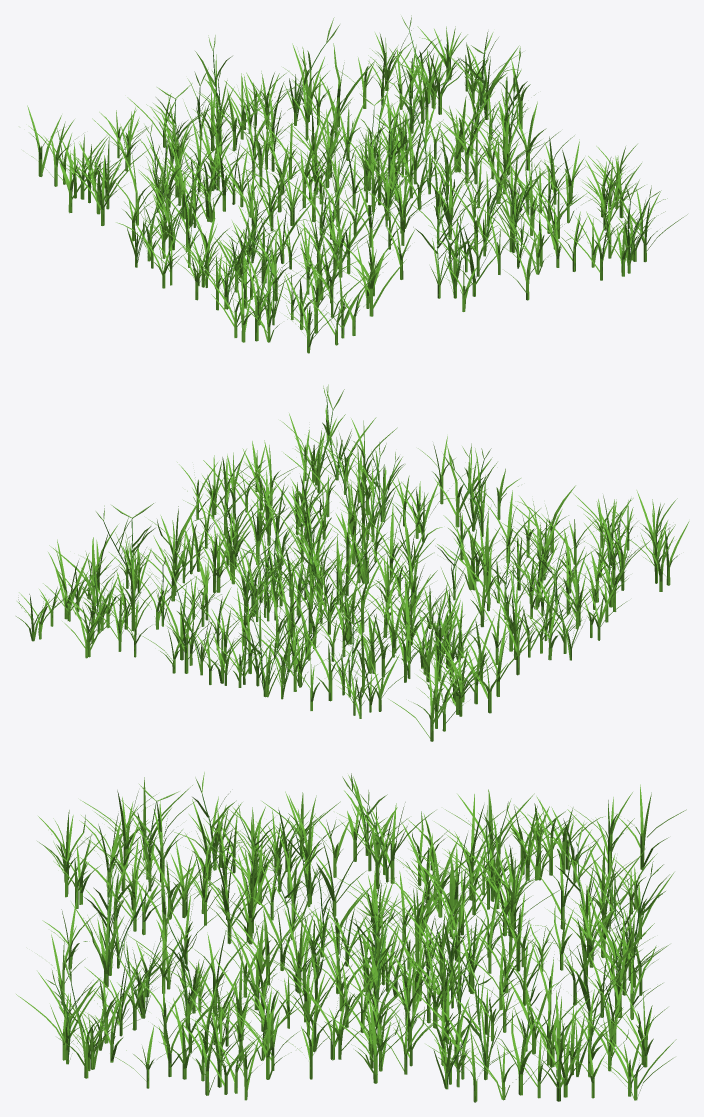
The model's file is BlenderGuru_GrassEssentials_Bahiagrass.obj.
3 views of the same model, one above another, from view 1: azimuth 30°, elevation 25°; view 2: azimuth 150°, elevation 25°; view 3: azimuth 270°, elevation 25° (orthographic). The views are drawn at different scales.
Parts seen in each view (by area): view 1: Grass_Bahiagrass_Long.018_Bahia01.005, Grass_Bahiagrass_Long.019_Bahia01.004, Grass_Bahiagrass_Long.006_Bahia01.018, Grass_Bahiagrass_Long.030_Bahia01.005, Grass_Bahiagrass_Long.036_Bahia01.018, Grass_Bahiagrass_Long.025_Bahia01.015, Grass_Bahiagrass_Long.021_Bahia01.002, Grass_Bahiagrass.243_Bahia.028, Grass_Bahiagrass_Long.031_Bahia01.004, Grass_Bahiagrass.245_Bahia.028, Grass_Bahiagrass.053_Bahia.032; view 2: Grass_Bahiagrass_Long.019_Bahia01.004, Grass_Bahiagrass_Long.018_Bahia01.005, Grass_Bahiagrass_Long.036_Bahia01.018, Grass_Bahiagrass.245_Bahia.028, Grass_Bahiagrass.244_Bahia.028, Grass_Bahiagrass_Long.030_Bahia01.005, Grass_Bahiagrass_Long.006_Bahia01.018, Grass_Bahiagrass_Long.031_Bahia01.004, Grass_Bahiagrass.243_Bahia.028, Grass_Bahiagrass.074_Bahia.025, Grass_Bahiagrass_Long.025_Bahia01.015; view 3: Grass_Bahiagrass_Long.025_Bahia01.015, Grass_Bahiagrass.245_Bahia.028, Grass_Bahiagrass_Long.019_Bahia01.004, Grass_Bahiagrass.065_Bahia.028, Grass_Bahiagrass_Long.018_Bahia01.005, Grass_Bahiagrass.243_Bahia.028, Grass_Bahiagrass.244_Bahia.028, Grass_Bahiagrass_Long.028_Bahia01.008, Grass_Bahiagrass_Long.031_Bahia01.004, Grass_Bahiagrass_Long.006_Bahia01.018, Grass_Bahiagrass.141_Bahia.032, Grass_Bahiagrass_Long.030_Bahia01.005 (+34 smaller).
Part boxes in pixels (box(x1,y1,x2,y2)): Grass_Bahiagrass_Long.018_Bahia01.005: box(436, 209, 478, 298); Grass_Bahiagrass_Long.019_Bahia01.004: box(195, 35, 232, 133); Grass_Bahiagrass_Long.006_Bahia01.018: box(284, 17, 339, 125); Grass_Bahiagrass_Long.030_Bahia01.005: box(137, 121, 172, 208); Grass_Bahiagrass_Long.036_Bahia01.018: box(413, 187, 456, 298); Grass_Bahiagrass_Long.025_Bahia01.015: box(460, 32, 506, 132); Grass_Bahiagrass_Long.021_Bahia01.002: box(397, 85, 441, 194); Grass_Bahiagrass.243_Bahia.028: box(284, 109, 372, 178); Grass_Bahiagrass_Long.031_Bahia01.004: box(497, 184, 530, 268); Grass_Bahiagrass.245_Bahia.028: box(291, 197, 378, 269); Grass_Bahiagrass.053_Bahia.032: box(318, 194, 376, 277); Grass_Bahiagrass_Long.019_Bahia01.004: box(239, 607, 295, 697); Grass_Bahiagrass_Long.018_Bahia01.005: box(460, 443, 497, 531); Grass_Bahiagrass_Long.036_Bahia01.018: box(443, 452, 490, 536); Grass_Bahiagrass.245_Bahia.028: box(440, 525, 506, 590); Grass_Bahiagrass.244_Bahia.028: box(340, 611, 403, 673); Grass_Bahiagrass_Long.030_Bahia01.005: box(423, 598, 457, 680); Grass_Bahiagrass_Long.006_Bahia01.018: box(168, 565, 221, 675); Grass_Bahiagrass_Long.031_Bahia01.004: box(367, 450, 405, 521); Grass_Bahiagrass.243_Bahia.028: box(263, 574, 317, 637); Grass_Bahiagrass.074_Bahia.025: box(392, 609, 463, 682); Grass_Bahiagrass_Long.025_Bahia01.015: box(111, 503, 155, 603); Grass_Bahiagrass_Long.025_Bahia01.015: box(453, 955, 509, 1080); Grass_Bahiagrass.245_Bahia.028: box(218, 854, 303, 944); Grass_Bahiagrass_Long.019_Bahia01.004: box(598, 861, 669, 966); Grass_Bahiagrass.065_Bahia.028: box(271, 908, 350, 993); Grass_Bahiagrass_Long.018_Bahia01.005: box(83, 863, 129, 975); Grass_Bahiagrass.243_Bahia.028: box(440, 907, 518, 993); Grass_Bahiagrass.244_Bahia.028: box(483, 850, 564, 937); Grass_Bahiagrass_Long.028_Bahia01.008: box(431, 1003, 479, 1089); Grass_Bahiagrass_Long.031_Bahia01.004: box(114, 930, 173, 1018); Grass_Bahiagrass_Long.006_Bahia01.018: box(588, 912, 646, 1008); Grass_Bahiagrass.141_Bahia.032: box(71, 897, 124, 987); Grass_Bahiagrass_Long.030_Bahia01.005: box(466, 798, 519, 901).
Bounding box in the file's own units: 0.5524 × 0.1145 × 0.5749.
